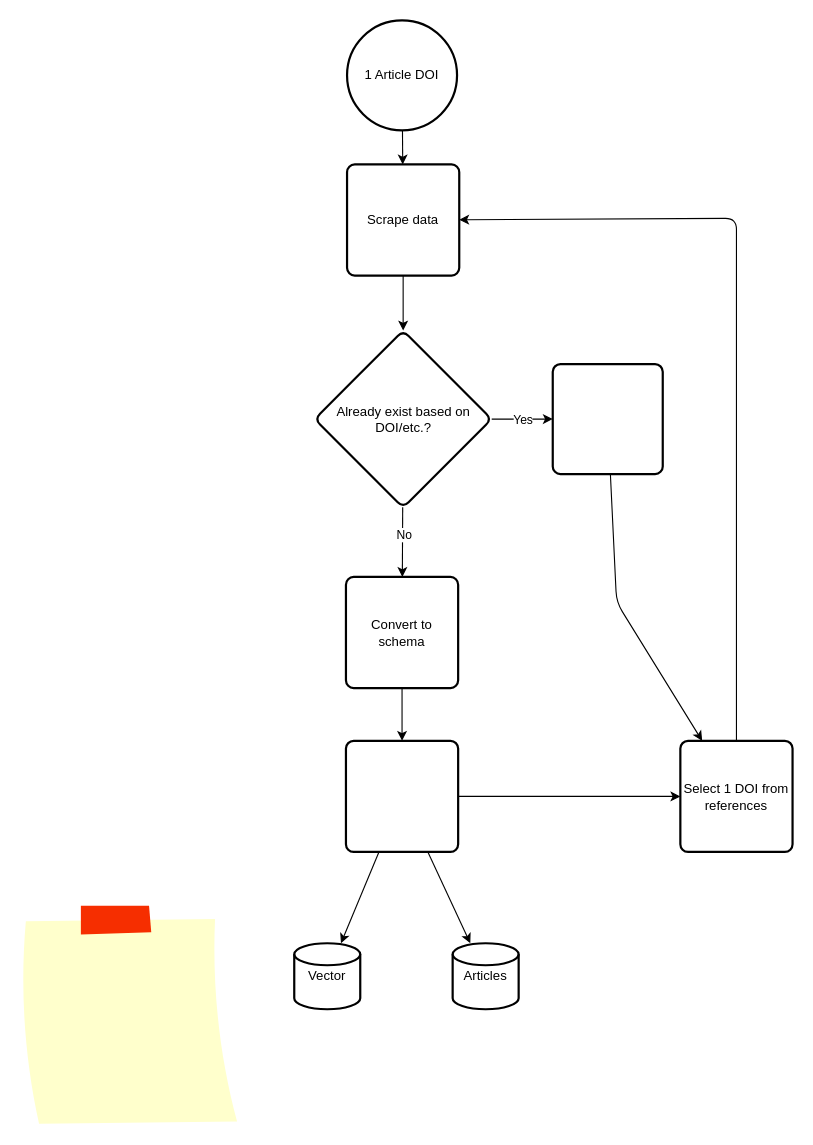
The diagram is 813 pixels wide and 1145 high, and some of its shapes have lost their labels. Here are the shapes that lost their labels. From the top down, the box of each, then its label:
(551, 362, 663, 475): Skip
(344, 739, 459, 853): Save data
(18, 905, 239, 1126): If possible, try to just use 1 DB/collection
